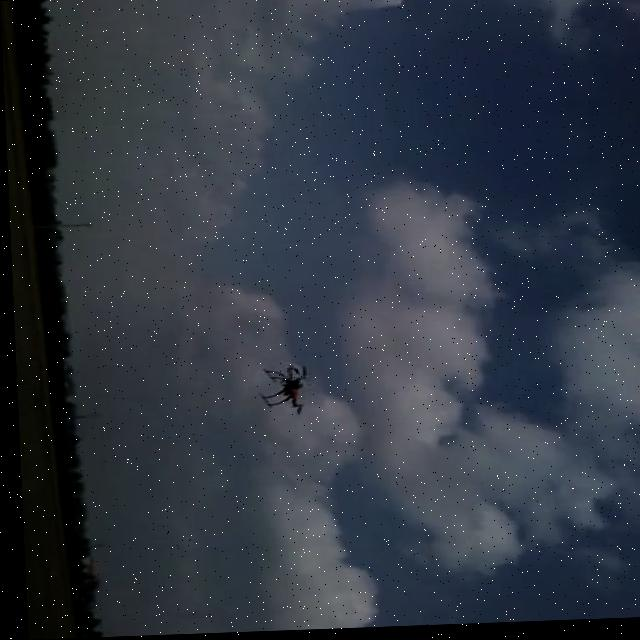drone: (256, 365, 312, 415)
